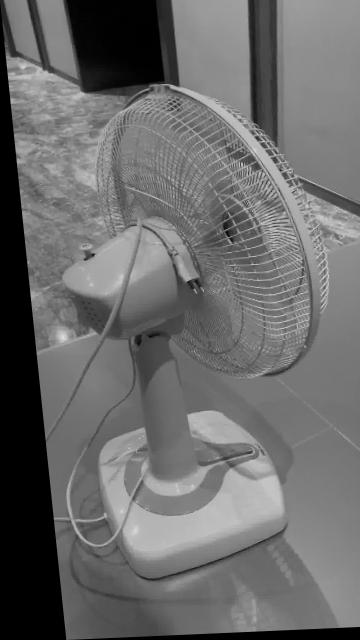Fan: (57, 86, 323, 582)
